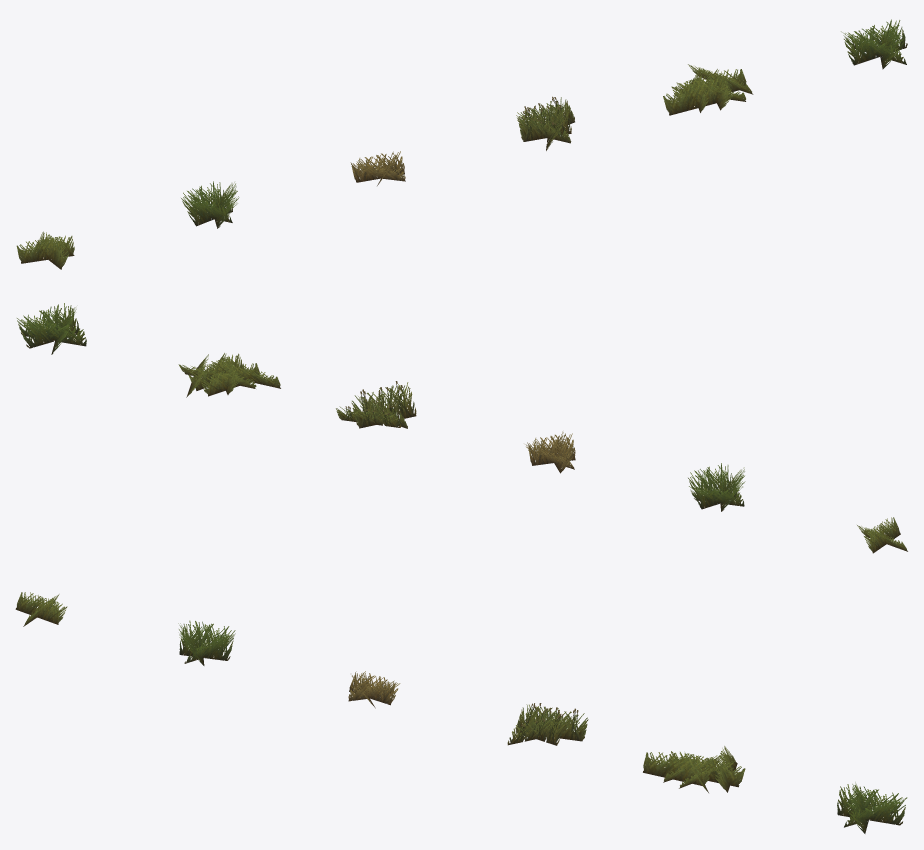
File: grass.glb
3 renders of one model, top to bottom at view 1: azimuth 30°, elevation 25°; view 2: azimuth 150°, elevation 25°; view 3: azimuth 330°, elevation 25°, orthographic.
Parts seen in each view (by area): view 1: grass05, grass04, grass06, grass02, grass01, grass03; view 2: grass05, grass04, grass06, grass02, grass03, grass01; view 3: grass05, grass04, grass06, grass02, grass03, grass01.
Boxes of the visible parts, x1,y1,x2,y2 form: grass05: (663, 64, 753, 115); grass04: (516, 96, 574, 150); grass06: (841, 19, 907, 69); grass02: (181, 181, 239, 228); grass01: (16, 231, 74, 269); grass03: (350, 151, 405, 185); grass05: (178, 353, 280, 397); grass04: (336, 381, 416, 428); grass06: (17, 303, 86, 354); grass02: (688, 463, 745, 511); grass03: (525, 431, 575, 473); grass01: (857, 517, 907, 553); grass05: (643, 746, 745, 792); grass04: (507, 703, 588, 745); grass06: (837, 782, 907, 833); grass02: (178, 620, 235, 665); grass03: (348, 671, 400, 708); grass01: (15, 592, 67, 626).
Bounding box in the file's own units: 16.04 × 0.5395 × 1.51.
Materials: 1 (1 with a texture image).
